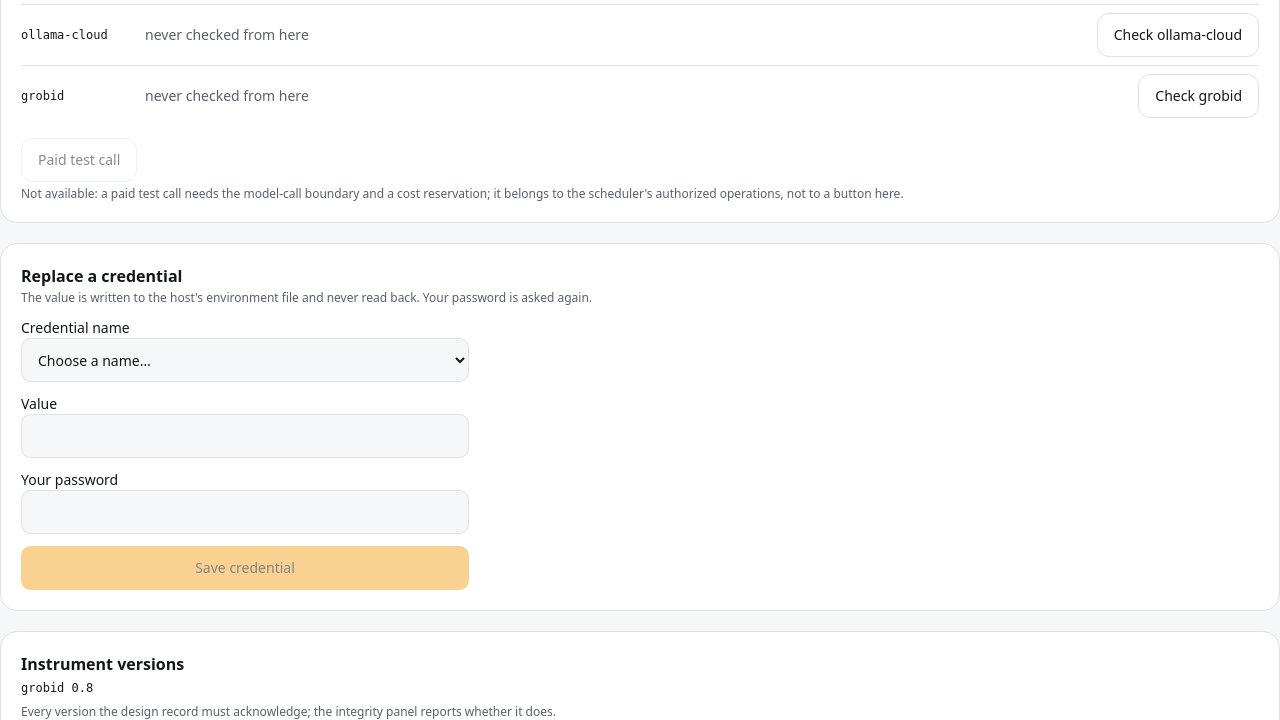
Test case: F6: Administration › clears the fields after a failure and shows CREDENTIALS_READ_ONLY as the server says it
(page scrolled)
Expected: the heading "Replace a credential" is shown, x1=21 y1=265 x2=182 y2=287
Select "OLLAMA_API_KEY" in the dropdown labelled "Credential name" at (245, 360), box x1=21 y1=338 x2=469 y2=382
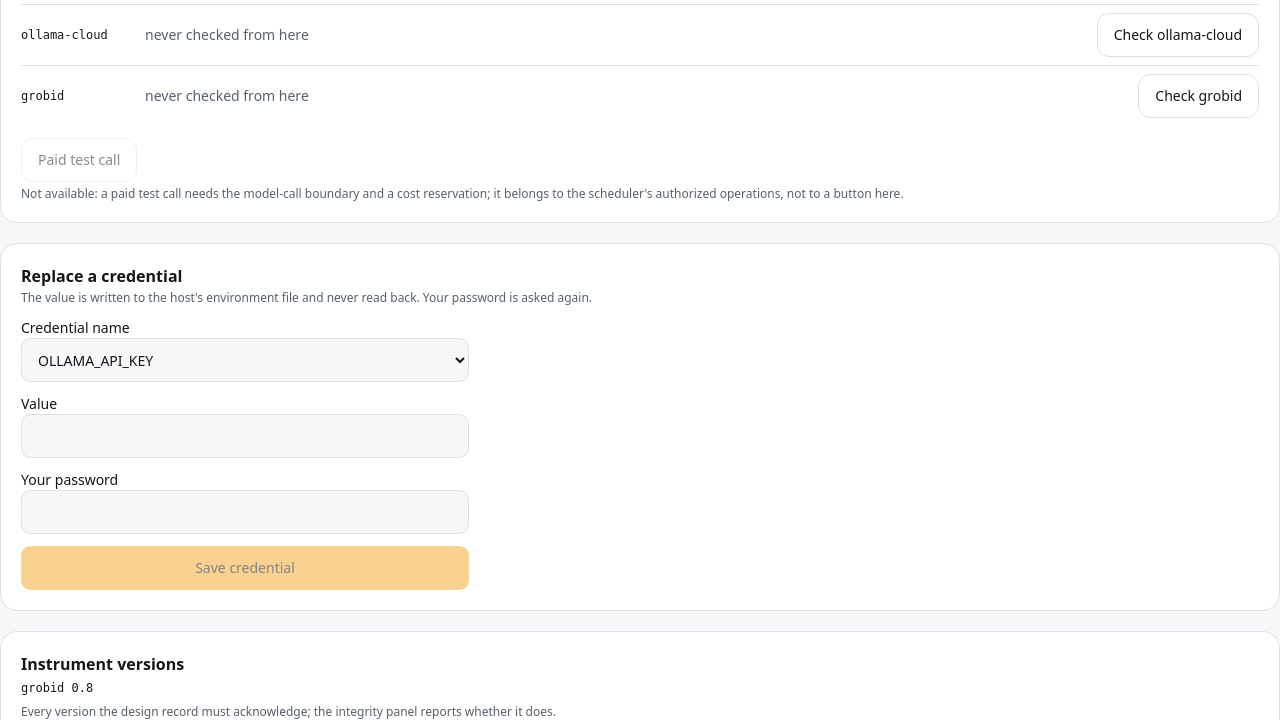
Type "s3cret-value" into the password field labelled "Value" at (245, 436), box x1=21 y1=414 x2=469 y2=458
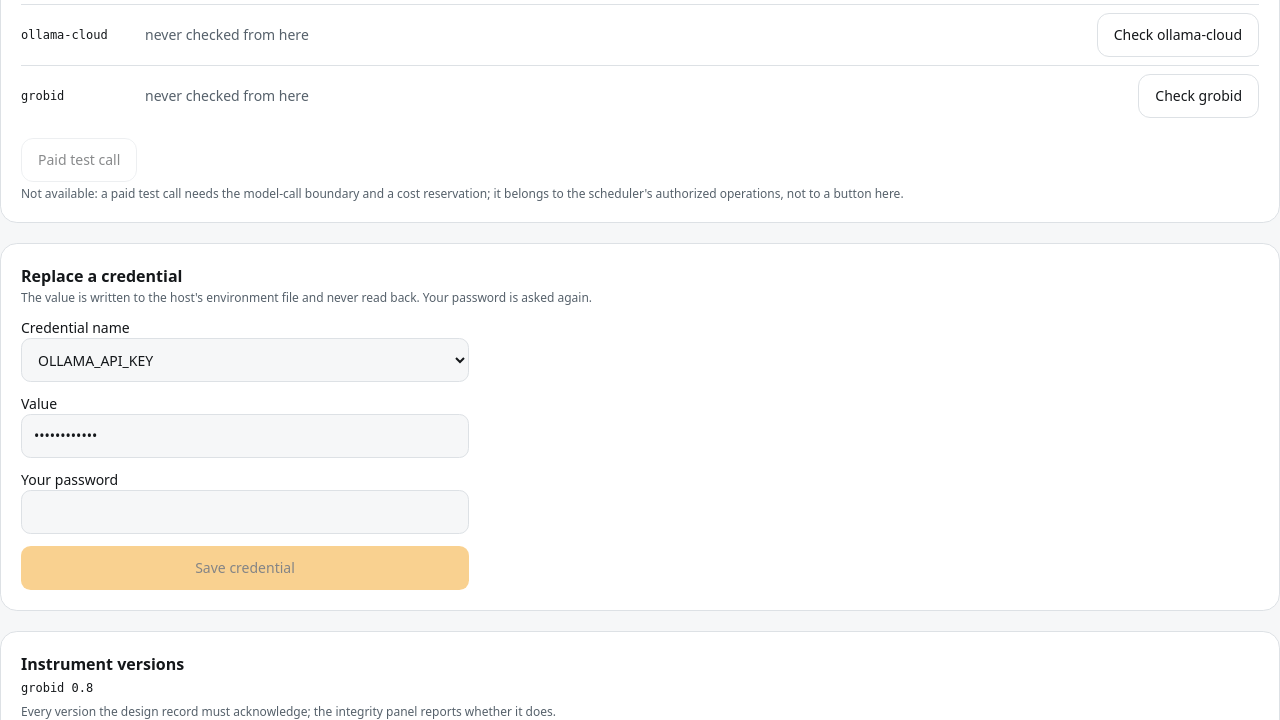
Type "pw-123" into the password field labelled "Your password" at (245, 512), box x1=21 y1=490 x2=469 y2=534
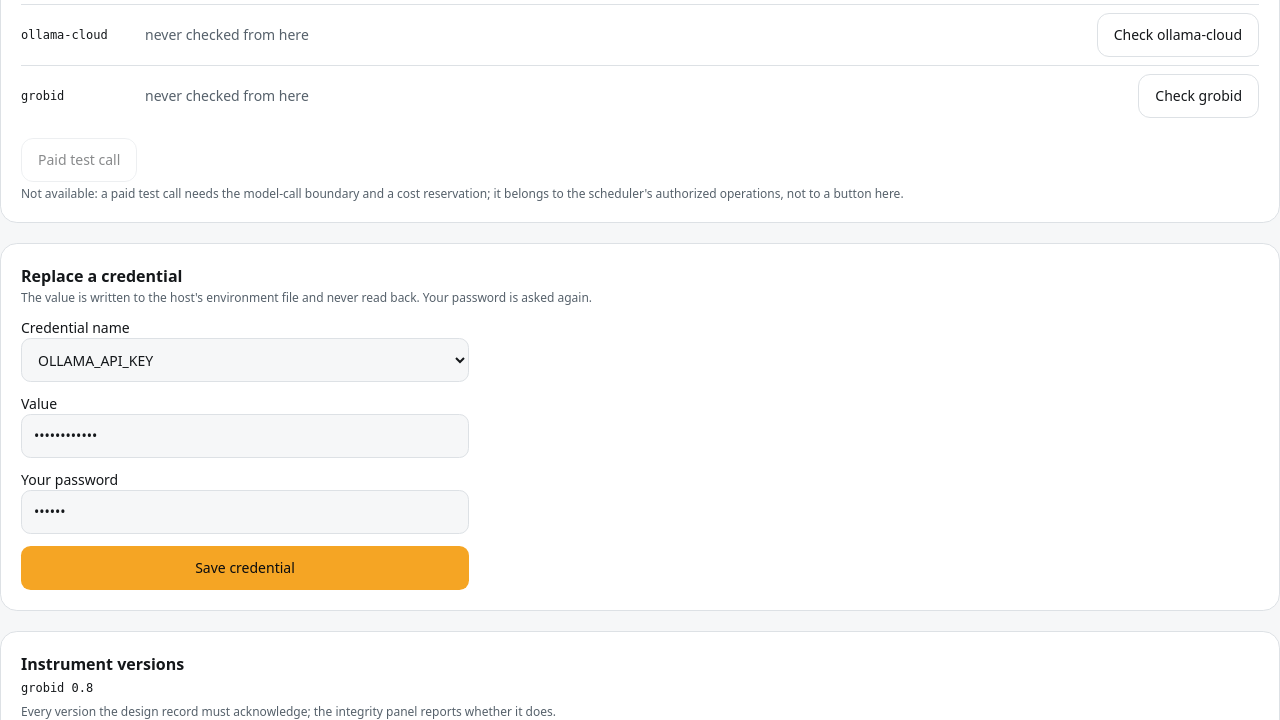
Click the button "Save credential" at (245, 568), box x1=21 y1=546 x2=469 y2=590
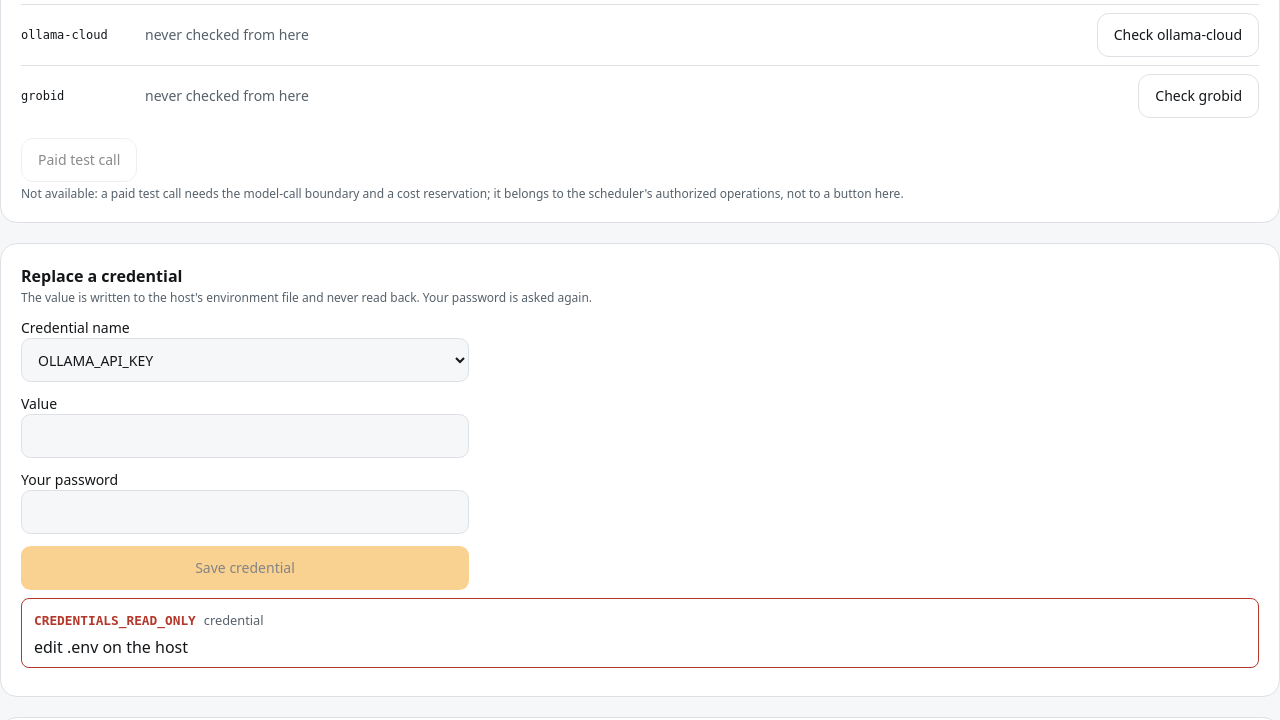
Expected: the text "CREDENTIALS_READ_ONLY" is shown, x1=34 y1=613 x2=196 y2=628
Expected: the text "edit .env on the host" is shown, x1=34 y1=636 x2=188 y2=658
Expected: the password field labelled "Value" is empty, x1=21 y1=414 x2=469 y2=458
